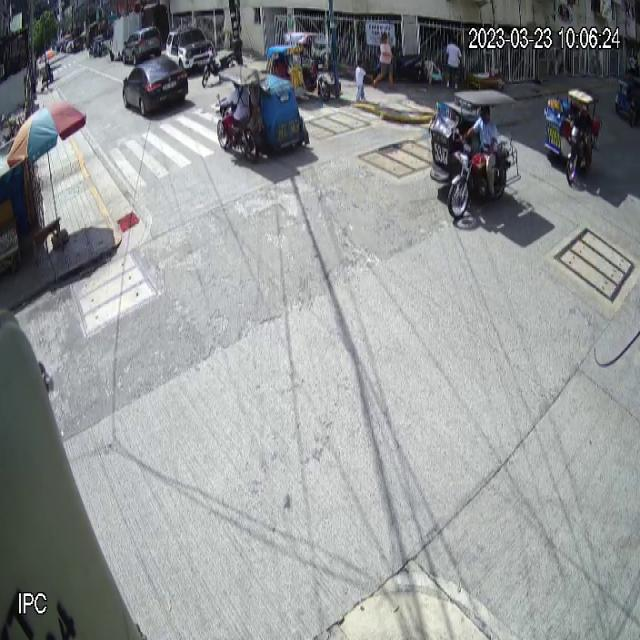Car: (122, 55, 188, 116)
Tricycle: (428, 89, 522, 220), (215, 66, 310, 162), (544, 88, 602, 184)
